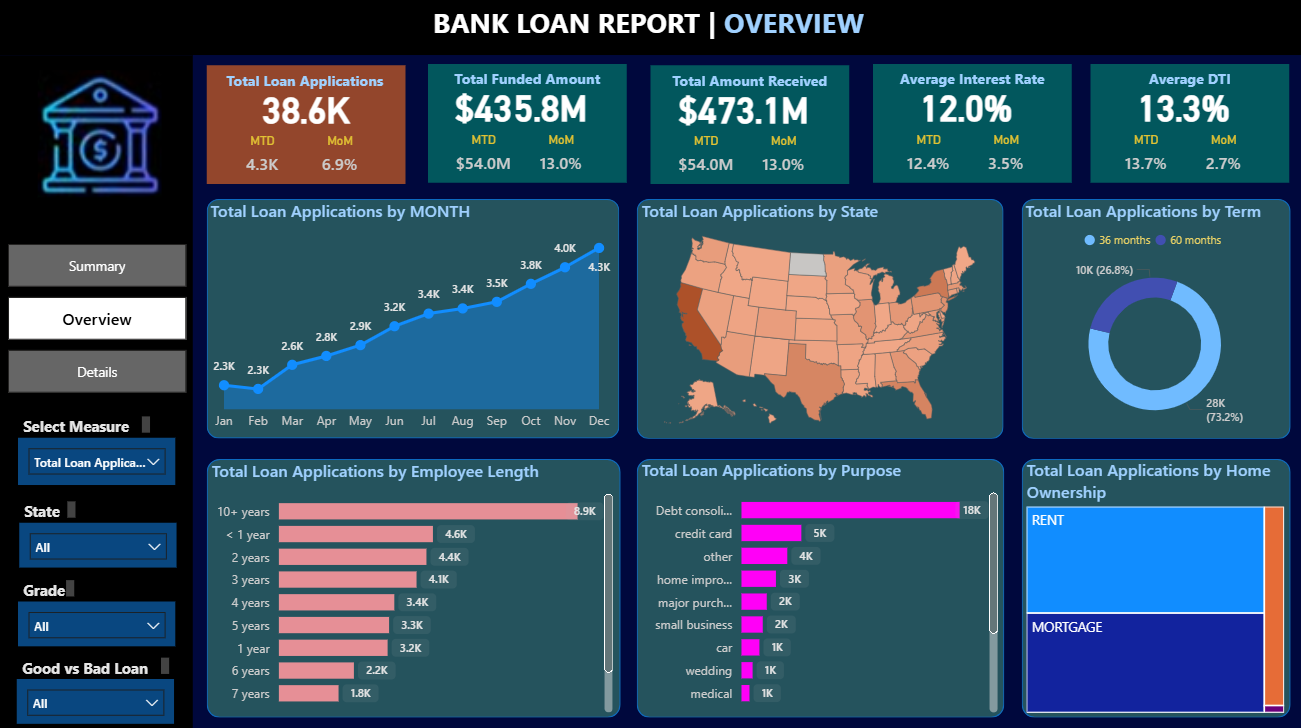

This screenshot's page, from the dashboard's own definition file:
{"tool":"powerbi","page":{"name":"Overview","canvas":[1280,720],"ordinal":1},"visuals":[{"type":"shape","box":[204.3,196.6,405,235],"z":0},{"type":"shape","box":[0,0,1279.8,55],"z":1000},{"type":"shape","box":[0,55.2,191.4,665],"z":2000},{"type":"textbox","box":[422.1,0,436.8,55.2],"z":3000},{"type":"shape","box":[421.7,63.8,195.1,116.6],"z":3000,"group":"g1"},{"type":"shape","box":[858.9,63.8,195.1,116.6],"z":3000,"group":"g3"},{"type":"shape","box":[1071.9,63.8,195.1,116.6],"z":3000,"group":"g4"},{"type":"shape","box":[204.9,65,195.1,116.6],"z":3000,"group":"g5"},{"type":"shape","box":[640.3,65,195.1,116.6],"z":3000,"group":"g2"},{"type":"group","id":"g1","title":"Group 1","box":[416.1,63.8,201.2,116.6],"z":4000},{"type":"card","fields":{"Values":["bank_loan_db financial_loans.Total Funded Amount"]},"box":[416.1,78.8,195.1,52.8],"z":4000,"group":"g1"},{"type":"card","fields":{"Values":["bank_loan_db financial_loans.Average Interest Rate"]},"box":[853.3,78.8,195.1,52.8],"z":4000,"group":"g3"},{"type":"card","fields":{"Values":["bank_loan_db financial_loans.Avg DTI"]},"box":[1066.3,78.8,195.1,52.8],"z":4000,"group":"g4"},{"type":"card","fields":{"Values":["bank_loan_db financial_loans.Total Loan Applications"]},"box":[204.9,79.7,195.1,52.8],"z":4000,"group":"g5"},{"type":"card","fields":{"Values":["bank_loan_db financial_loans.Total Amount Received"]},"box":[634.7,80,195.1,52.8],"z":4000,"group":"g2"},{"type":"textbox","box":[421.7,63.8,195.1,29.4],"z":5000,"group":"g1"},{"type":"textbox","box":[858.9,63.8,195.1,29.4],"z":5000,"group":"g3"},{"type":"textbox","box":[1071.9,63.8,195.1,29.4],"z":5000,"group":"g4"},{"type":"group","id":"g2","title":"Group 1","box":[634.7,65,201.2,116.6],"z":5000},{"type":"textbox","box":[640.3,65,195.1,29.4],"z":5000,"group":"g2"},{"type":"textbox","box":[205.3,65.2,192.6,29.4],"z":5000,"group":"g5"},{"type":"group","id":"g3","title":"Group 1","box":[853.3,63.8,201.2,116.6],"z":6000},{"type":"card","title":"MTD","fields":{"Values":["bank_loan_db financial_loans.MTD Funded Amount"]},"box":[443.8,131.3,65,49.1],"z":6000,"group":"g1"},{"type":"card","title":"MTD","fields":{"Values":["bank_loan_db financial_loans.MTD Avg Int Rate"]},"box":[881,131.3,65,49.1],"z":6000,"group":"g3"},{"type":"card","title":"MTD","fields":{"Values":["bank_loan_db financial_loans.MTD Avg DTI"]},"box":[1094,131.3,65,49.1],"z":6000,"group":"g4"},{"type":"card","title":"MTD","fields":{"Values":["bank_loan_db financial_loans.MTD Loan Applications"]},"box":[227,132.5,65,49.1],"z":6000,"group":"g5"},{"type":"card","title":"MTD","fields":{"Values":["bank_loan_db financial_loans.MTD Funded Amount"]},"box":[662.4,132.5,65,49.1],"z":6000,"group":"g2"},{"type":"group","id":"g4","title":"Group 1","box":[1066.3,63.8,200.7,116.6],"z":7000},{"type":"card","title":"MoM","fields":{"Values":["bank_loan_db financial_loans.MoM Total Funded Amount"]},"box":[519.9,131.3,65,49.1],"z":7000,"group":"g1"},{"type":"card","title":"MoM","fields":{"Values":["bank_loan_db financial_loans.MoM Avg Int Rate"]},"box":[957.1,131.3,65,49.1],"z":7000,"group":"g3"},{"type":"card","title":"MoM","fields":{"Values":["bank_loan_db financial_loans.MoM Avg DTI"]},"box":[1170.1,131.3,65,49.1],"z":7000,"group":"g4"},{"type":"card","title":"MoM","fields":{"Values":["bank_loan_db financial_loans.MoM Loan Applications"]},"box":[303.1,132.5,65,49.1],"z":7000,"group":"g5"},{"type":"card","title":"MoM","fields":{"Values":["bank_loan_db financial_loans.MoM Total Funded Amount"]},"box":[738.5,132.5,65,49.1],"z":7000,"group":"g2"},{"type":"slicer","fields":{"Values":["bank_loan_db financial_loans.address_state"]},"box":[20.4,514.6,154.6,44.2],"z":8000},{"type":"textbox","box":[20.4,488.8,60.1,25.8],"z":9000},{"type":"slicer","fields":{"Values":["bank_loan_db financial_loans.grade"]},"box":[19.4,591.4,154.6,44.2],"z":10000},{"type":"textbox","box":[19.4,565.6,60.1,25.8],"z":11000},{"type":"slicer","fields":{"Values":["bank_loan_db financial_loans.Good vs Bad Loan"]},"box":[18.4,667.7,154.6,44.2],"z":12000},{"type":"textbox","box":[18.4,642,154.6,25.8],"z":13000},{"type":"areaChart","fields":{"Y":["bank_loan_db financial_loans.Total Loan Applications"],"Category":["Date Table.MONTH"]},"box":[203.7,196.3,404.9,235.6],"z":14000},{"type":"slicer","fields":{"Values":["Select Measure.Select Measure"]},"box":[19.4,430.7,154.6,46.6],"z":15000},{"type":"textbox","box":[19.4,404.9,135,25.8],"z":16000},{"type":"shape","box":[627,196.3,360,235.6],"z":17000},{"type":"shapeMap","fields":{"Value":["bank_loan_db financial_loans.Total Loan Applications"],"Category":["bank_loan_db financial_loans.address_state"]},"box":[627,196.3,359.5,235.6],"z":18000},{"type":"shape","box":[1004.9,196.3,263.8,235.6],"z":19000},{"type":"donutChart","fields":{"Y":["bank_loan_db financial_loans.Total Loan Applications"],"Category":["bank_loan_db financial_loans.term"]},"box":[1003.7,196.3,263.8,235.6],"z":20000},{"type":"shape","box":[204.9,451.5,406.1,254],"z":21000},{"type":"barChart","fields":{"Y":["bank_loan_db financial_loans.Total Loan Applications"],"Category":["bank_loan_db financial_loans.emp_length"]},"box":[204.9,451.5,403.7,254],"z":22000},{"type":"shape","box":[627,451.5,360.7,254],"z":23000},{"type":"barChart","fields":{"Y":["bank_loan_db financial_loans.Total Loan Applications"],"Category":["bank_loan_db financial_loans.purpose"]},"box":[627,450.3,359.5,255.2],"z":24000},{"type":"shape","box":[1004.9,451.5,263.8,254],"z":25000},{"type":"treemap","fields":{"Values":["bank_loan_db financial_loans.Total Loan Applications"],"Group":["bank_loan_db financial_loans.home_ownership"]},"box":[1004.9,450.3,262.6,255.2],"z":26000},{"type":"group","id":"g5","title":"Group 1","box":[204.9,65,195.1,116.6],"z":27000},{"type":"pageNavigator","box":[9.8,240.5,175.5,146],"z":28000},{"type":"image","box":[27,65,146,135],"z":28001}]}

Visuals, with their boxes in screenshot pixels (x1, y1, x2, y2), scaled from the page's 1280x720 canvas onto the 1301x728 screenshot:
shape: crop(208, 199, 619, 436)
shape: crop(0, 0, 1300, 56)
shape: crop(0, 56, 195, 727)
textbox: crop(429, 0, 873, 56)
shape: crop(429, 65, 627, 182)
shape: crop(873, 65, 1071, 182)
shape: crop(1089, 65, 1288, 182)
shape: crop(208, 66, 407, 184)
shape: crop(651, 66, 849, 184)
"Group 1" group: crop(423, 65, 627, 182)
card - bank_loan_db financial_loans.Total Funded Amount: crop(423, 80, 621, 133)
card - bank_loan_db financial_loans.Average Interest Rate: crop(867, 80, 1066, 133)
card - bank_loan_db financial_loans.Avg DTI: crop(1084, 80, 1282, 133)
card - bank_loan_db financial_loans.Total Loan Applications: crop(208, 81, 407, 134)
card - bank_loan_db financial_loans.Total Amount Received: crop(645, 81, 843, 134)
textbox: crop(429, 65, 627, 94)
textbox: crop(873, 65, 1071, 94)
textbox: crop(1089, 65, 1288, 94)
"Group 1" group: crop(645, 66, 850, 184)
textbox: crop(651, 66, 849, 95)
textbox: crop(209, 66, 404, 96)
"Group 1" group: crop(867, 65, 1072, 182)
"MTD" card: crop(451, 133, 517, 182)
"MTD" card: crop(895, 133, 962, 182)
"MTD" card: crop(1112, 133, 1178, 182)
"MTD" card: crop(231, 134, 297, 184)
"MTD" card: crop(673, 134, 739, 184)
"Group 1" group: crop(1084, 65, 1288, 182)
"MoM" card: crop(528, 133, 594, 182)
"MoM" card: crop(973, 133, 1039, 182)
"MoM" card: crop(1189, 133, 1255, 182)
"MoM" card: crop(308, 134, 374, 184)
"MoM" card: crop(751, 134, 817, 184)
slicer - bank_loan_db financial_loans.address_state: crop(21, 520, 178, 565)
textbox: crop(21, 494, 82, 520)
slicer - bank_loan_db financial_loans.grade: crop(20, 598, 177, 643)
textbox: crop(20, 572, 81, 598)
slicer - bank_loan_db financial_loans.Good vs Bad Loan: crop(19, 675, 176, 720)
textbox: crop(19, 649, 176, 675)
areaChart - bank_loan_db financial_loans.Total Loan Applications x Date Table.MONTH: crop(207, 198, 619, 437)
slicer - Select Measure.Select Measure: crop(20, 435, 177, 483)
textbox: crop(20, 409, 157, 435)
shape: crop(637, 198, 1003, 437)
shapeMap - bank_loan_db financial_loans.Total Loan Applications x bank_loan_db financial_loans.address_state: crop(637, 198, 1003, 437)
shape: crop(1021, 198, 1290, 437)
donutChart - bank_loan_db financial_loans.Total Loan Applications x bank_loan_db financial_loans.term: crop(1020, 198, 1288, 437)
shape: crop(208, 457, 621, 713)
barChart - bank_loan_db financial_loans.Total Loan Applications x bank_loan_db financial_loans.emp_length: crop(208, 457, 619, 713)
shape: crop(637, 457, 1004, 713)
barChart - bank_loan_db financial_loans.Total Loan Applications x bank_loan_db financial_loans.purpose: crop(637, 455, 1003, 713)
shape: crop(1021, 457, 1290, 713)
treemap - bank_loan_db financial_loans.Total Loan Applications x bank_loan_db financial_loans.home_ownership: crop(1021, 455, 1288, 713)
"Group 1" group: crop(208, 66, 407, 184)
pageNavigator: crop(10, 243, 188, 391)
image: crop(27, 66, 176, 202)
